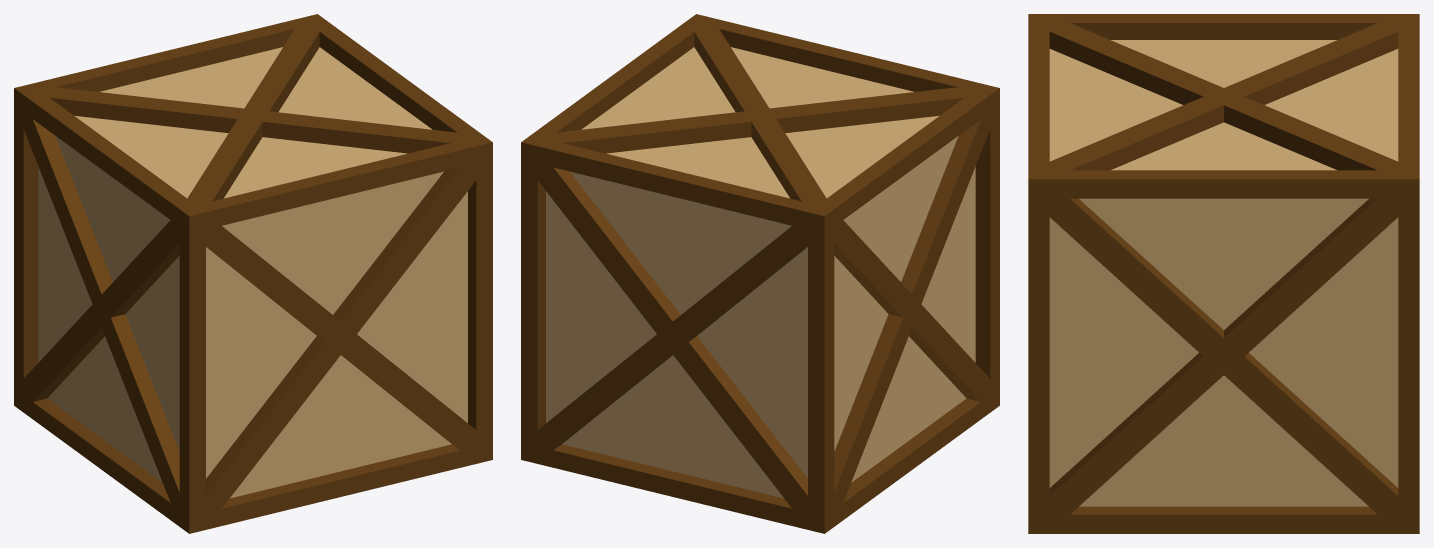
Rendered from WoodenBox1.fbx.
3 renders of one model, left to right at view 1: azimuth 30°, elevation 25°; view 2: azimuth 150°, elevation 25°; view 3: azimuth 270°, elevation 25°, orthographic. The views are drawn at different scales.
Parts seen in each view (by area): view 1: caixa2; view 2: caixa2; view 3: caixa2.
Boxes of the visible parts, bbox=[...] form: caixa2: bbox=[14, 14, 492, 533]; caixa2: bbox=[521, 14, 999, 533]; caixa2: bbox=[1028, 14, 1419, 533].
Bounding box in the file's own units: 295 × 295 × 295.
